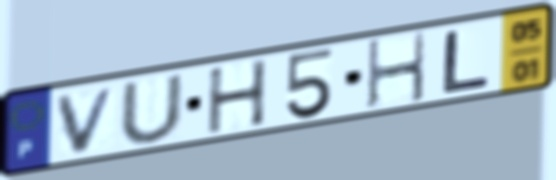5: (284, 45, 336, 122)
H: (205, 56, 271, 137), (365, 29, 429, 112)
L: (439, 28, 493, 96)
U: (116, 71, 186, 146)
V: (53, 83, 121, 157)
